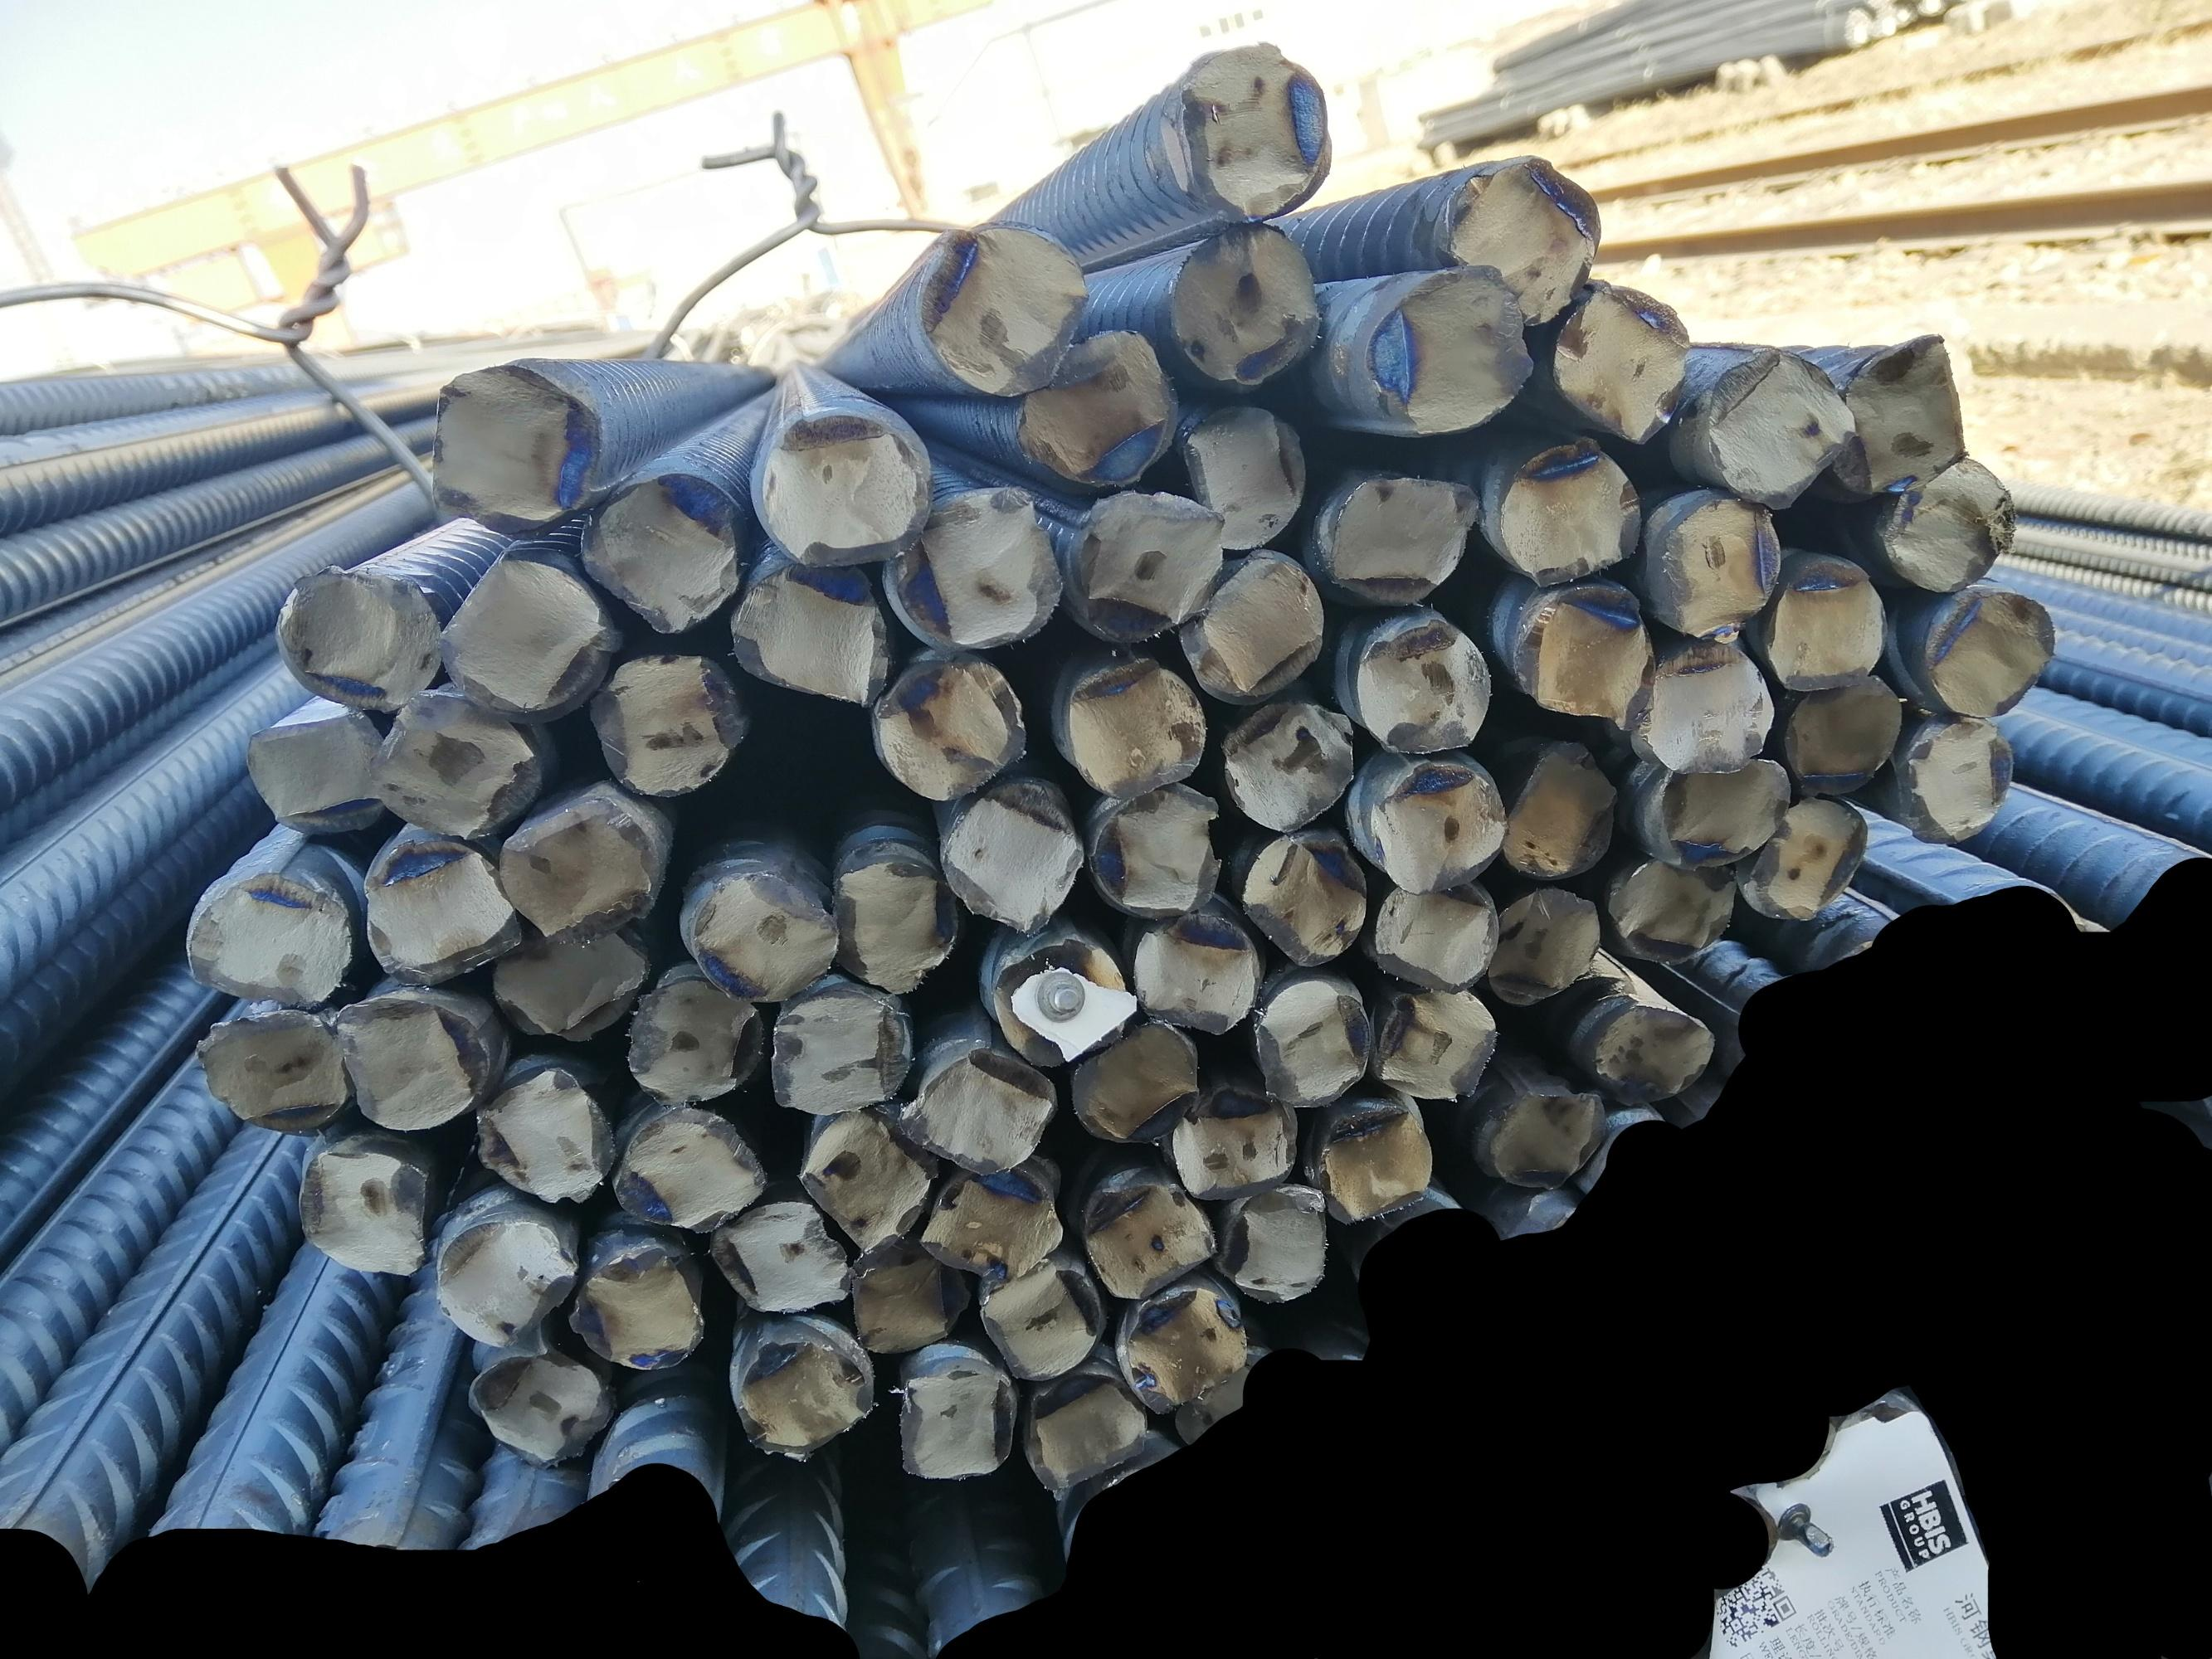bar: (1156, 35, 1342, 230), (915, 214, 1091, 401), (424, 361, 605, 537), (746, 403, 936, 570), (432, 552, 617, 723), (880, 484, 1065, 655), (1363, 260, 1537, 439), (572, 467, 753, 638), (1163, 214, 1330, 394), (1056, 484, 1232, 650), (1445, 152, 1604, 329), (1014, 324, 1180, 493), (361, 690, 544, 842), (267, 558, 441, 716), (493, 796, 669, 948), (183, 864, 363, 1012), (1705, 345, 1858, 511), (1173, 544, 1327, 708), (865, 653, 1030, 805), (1550, 279, 1696, 450), (584, 650, 751, 798), (361, 838, 525, 988), (729, 561, 894, 709), (933, 788, 1091, 939), (725, 1310, 877, 1464), (1497, 434, 1645, 591), (1510, 580, 1659, 732), (328, 997, 492, 1134), (188, 1006, 354, 1141), (795, 1103, 940, 1258), (1063, 652, 1208, 807), (607, 1103, 770, 1236), (1325, 472, 1482, 610), (1842, 328, 1970, 497), (471, 1063, 621, 1206), (1114, 1276, 1257, 1425), (1349, 613, 1496, 758), (687, 868, 842, 1004), (894, 1049, 1058, 1176), (239, 709, 399, 838), (1365, 756, 1511, 897), (293, 1134, 432, 1283), (1177, 399, 1309, 554), (1652, 488, 1783, 645), (1086, 777, 1231, 918), (988, 938, 1140, 1072), (1215, 695, 1360, 835), (1630, 638, 1776, 775), (1879, 455, 2019, 596), (1077, 1162, 1220, 1300), (767, 986, 917, 1117), (432, 1218, 580, 1349), (828, 857, 962, 997), (621, 976, 765, 1105), (488, 929, 650, 1044), (1238, 828, 1370, 967), (915, 1166, 1065, 1288), (1919, 589, 2057, 721), (565, 1244, 708, 1371), (1126, 908, 1264, 1039), (1733, 791, 1870, 922), (464, 1352, 615, 1471), (1499, 737, 1621, 882), (1069, 1016, 1203, 1147), (704, 1197, 854, 1314), (1766, 554, 1888, 694), (1018, 1370, 1150, 1495), (978, 1262, 1109, 1385), (1658, 755, 1794, 873), (1600, 852, 1740, 967), (1780, 671, 1903, 800), (898, 1351, 1020, 1481), (1170, 1080, 1300, 1202), (1250, 978, 1370, 1110), (1372, 983, 1503, 1103), (1208, 1180, 1330, 1307), (1368, 871, 1501, 986), (1482, 885, 1605, 1007), (1902, 714, 2013, 847), (845, 1236, 969, 1354), (1590, 997, 1719, 1108), (1320, 1107, 1436, 1229), (1480, 1087, 1611, 1192)
